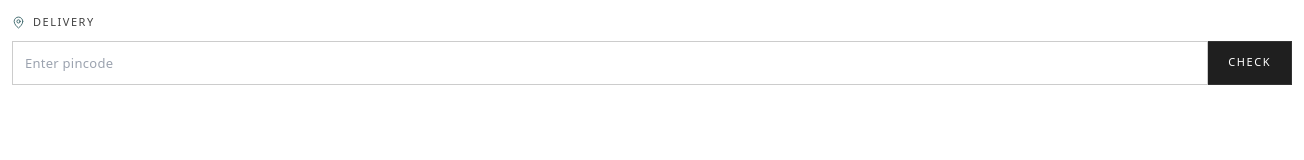
Test: PincodeChecker › dates delivery for a piece in stock
Type "400001" into the field with placeholder "Enter pincode" at (610, 62), box [12,40,1208,84]
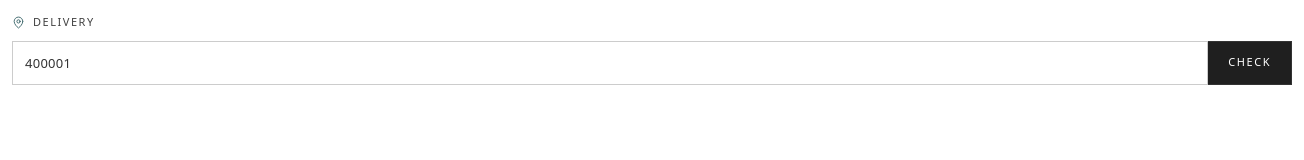
Click the button "Check" at (1250, 62), box [1208,40,1292,84]
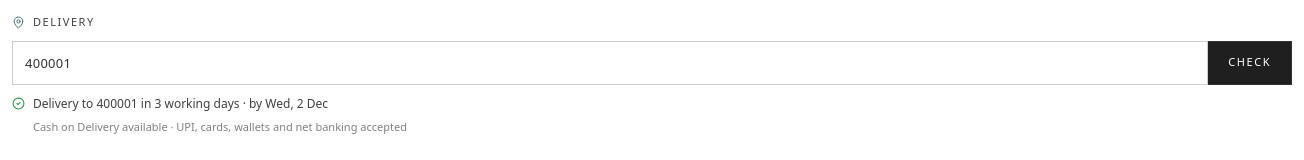
Check: the text "Delivery to 400001 in 3 working days · by Wed, 2 Dec" is shown, box [33,94,328,112]
